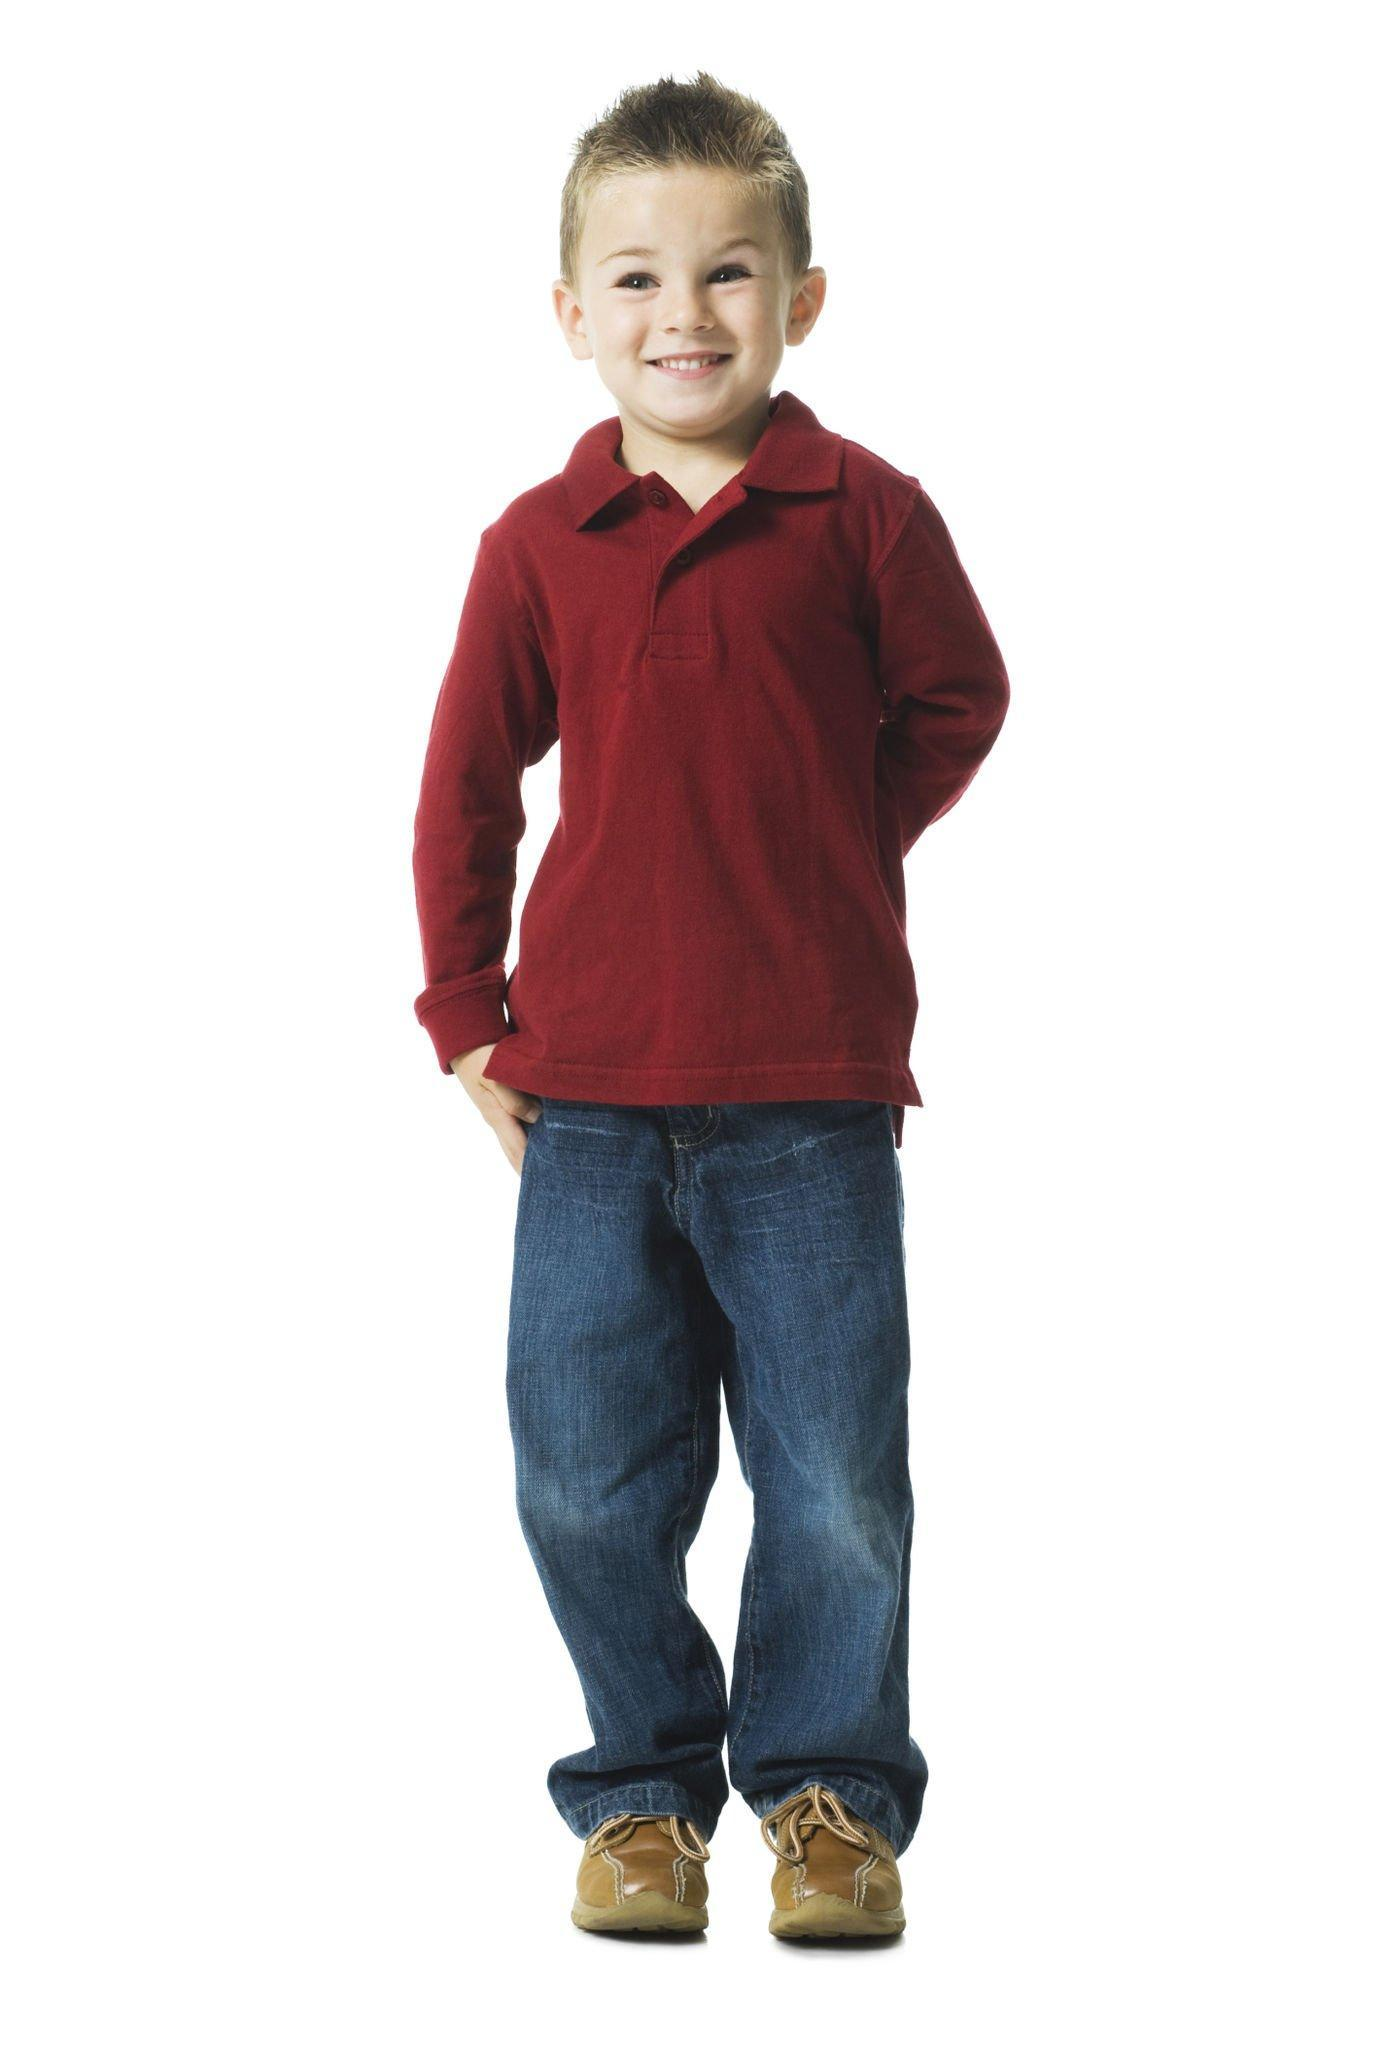Healthy: (526, 116, 849, 463)
